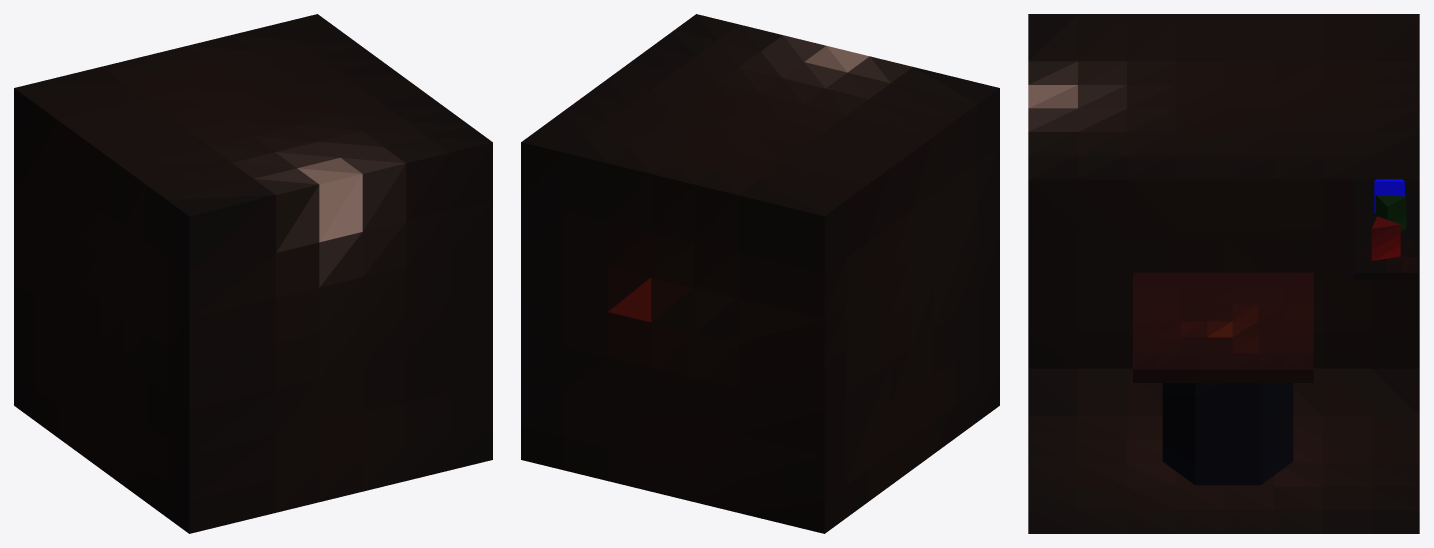
File: scene_mod.dae
The picture shows the model from 3 angles, left to right: view 1: azimuth 30°, elevation 25°; view 2: azimuth 150°, elevation 25°; view 3: azimuth 270°, elevation 25°; orthographic projection. The views are drawn at different scales.
Visible parts, largest first — view 1: Wall; view 2: Wall; view 3: Wall, Table, Base, Shelf, RedBook, GreenBook, BlueBook.
Boxes of the visible parts, x1=… form: Wall: x1=14, y1=14, x2=492, y2=533; Wall: x1=521, y1=14, x2=999, y2=533; Wall: x1=1028, y1=14, x2=1419, y2=533; Table: x1=1133, y1=272, x2=1313, y2=382; Base: x1=1162, y1=383, x2=1293, y2=485; Shelf: x1=1354, y1=179, x2=1418, y2=279; RedBook: x1=1371, y1=216, x2=1400, y2=260; GreenBook: x1=1375, y1=195, x2=1406, y2=231; BlueBook: x1=1374, y1=179, x2=1404, y2=213.
Size of the model in its own units: 6 by 6 by 6.
